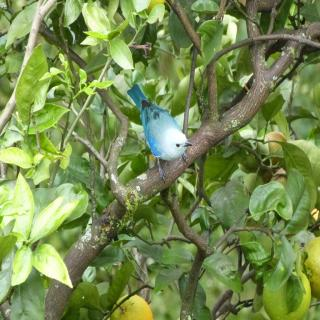Lemon: (297, 236, 320, 297), (111, 292, 153, 320)
